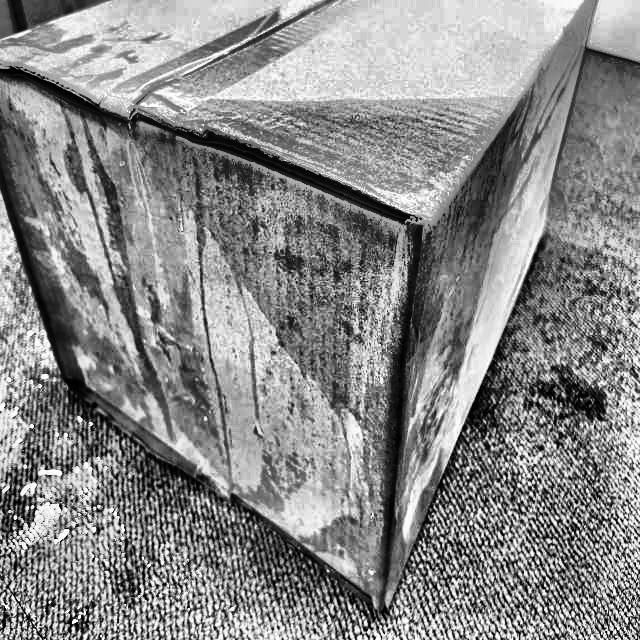box: (0, 0, 600, 624)
wet: (166, 103, 518, 467)
